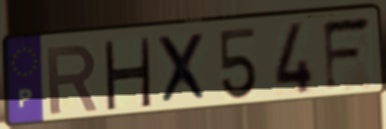4: (272, 20, 316, 98)
5: (217, 24, 258, 101)
F: (320, 13, 375, 95)
H: (101, 36, 153, 111)
R: (44, 43, 101, 118)
X: (153, 30, 212, 107)
